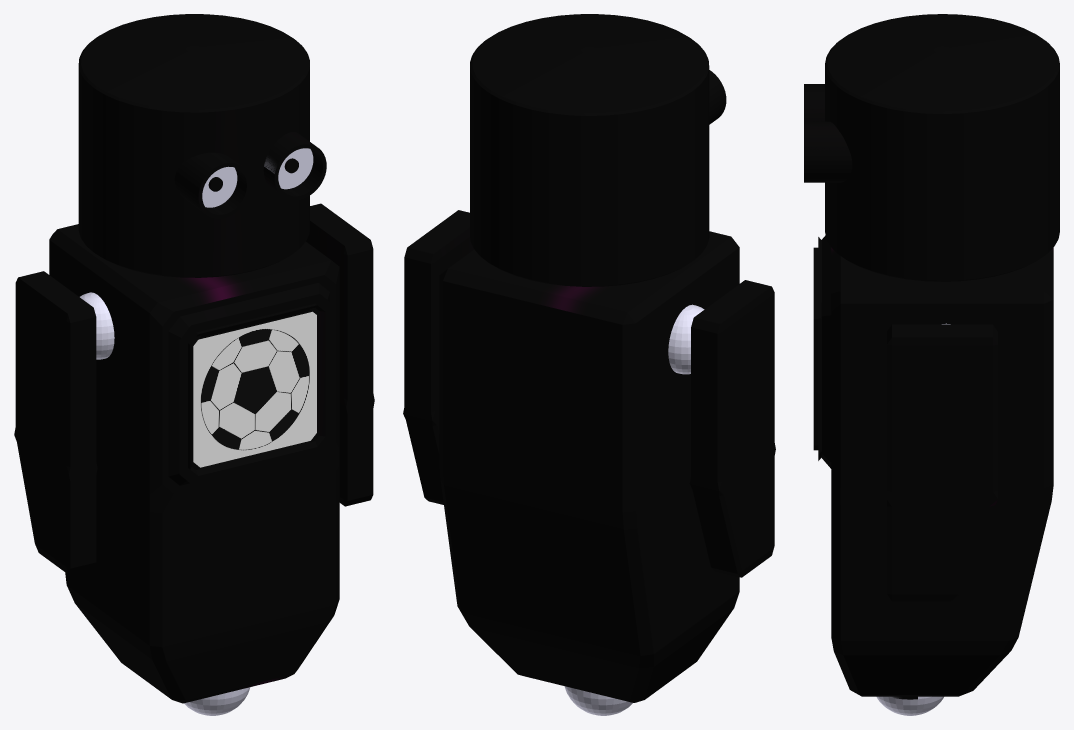
Rendered from Soccer_Robot_Team_1.glb.
The picture shows the model from 3 angles, left to right: view 1: azimuth 30°, elevation 25°; view 2: azimuth 150°, elevation 25°; view 3: azimuth 270°, elevation 25°; orthographic projection. The views are drawn at different scales.
Parts seen in each view (by area): view 1: Cube.001, Plane; view 2: Cube.001; view 3: Cube.001.
Boxes of the visible parts, <box> form: Cube.001: <box>14,14,374,715</box>; Plane: <box>193,311,316,467</box>; Cube.001: <box>403,14,775,715</box>; Cube.001: <box>804,14,1059,715</box>.
Bounding box in the file's own units: 3.22 × 6.56 × 2.3.
Materials: 2 (2 with a texture image).
